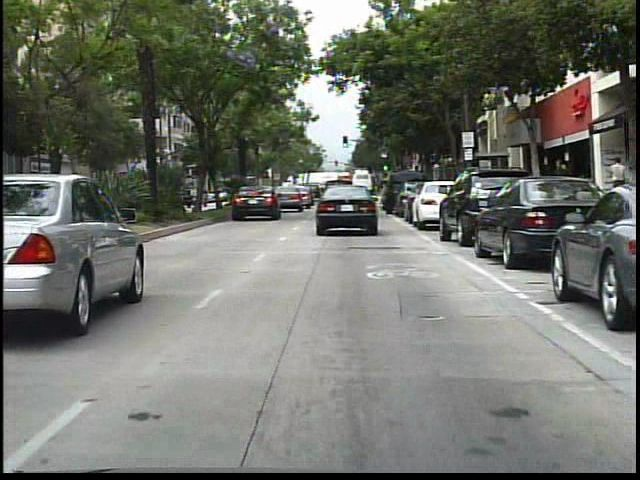person: (546, 156, 571, 223), (605, 151, 630, 218), (548, 158, 575, 219)
